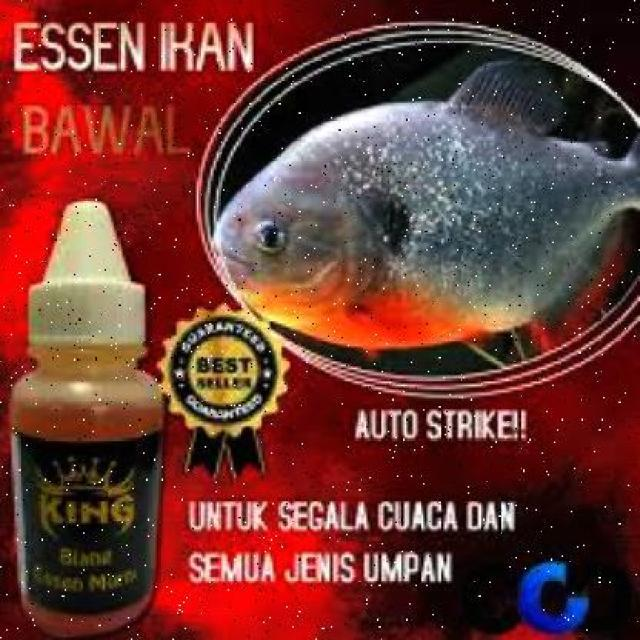ikan-pacu: (222, 77, 628, 346)
